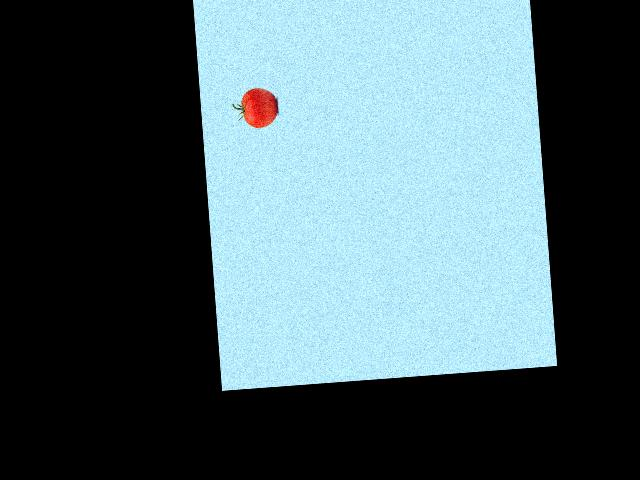tomato: (240, 87, 278, 129)
